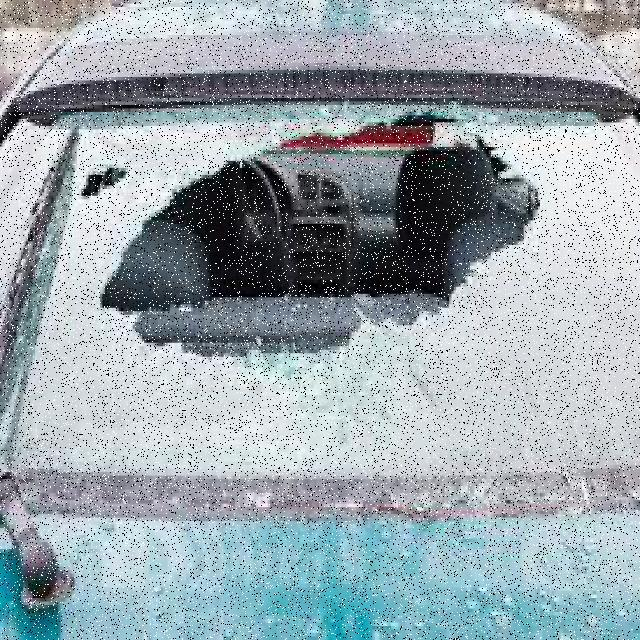Rear-windscreen-Damage: (0, 70, 638, 588)
